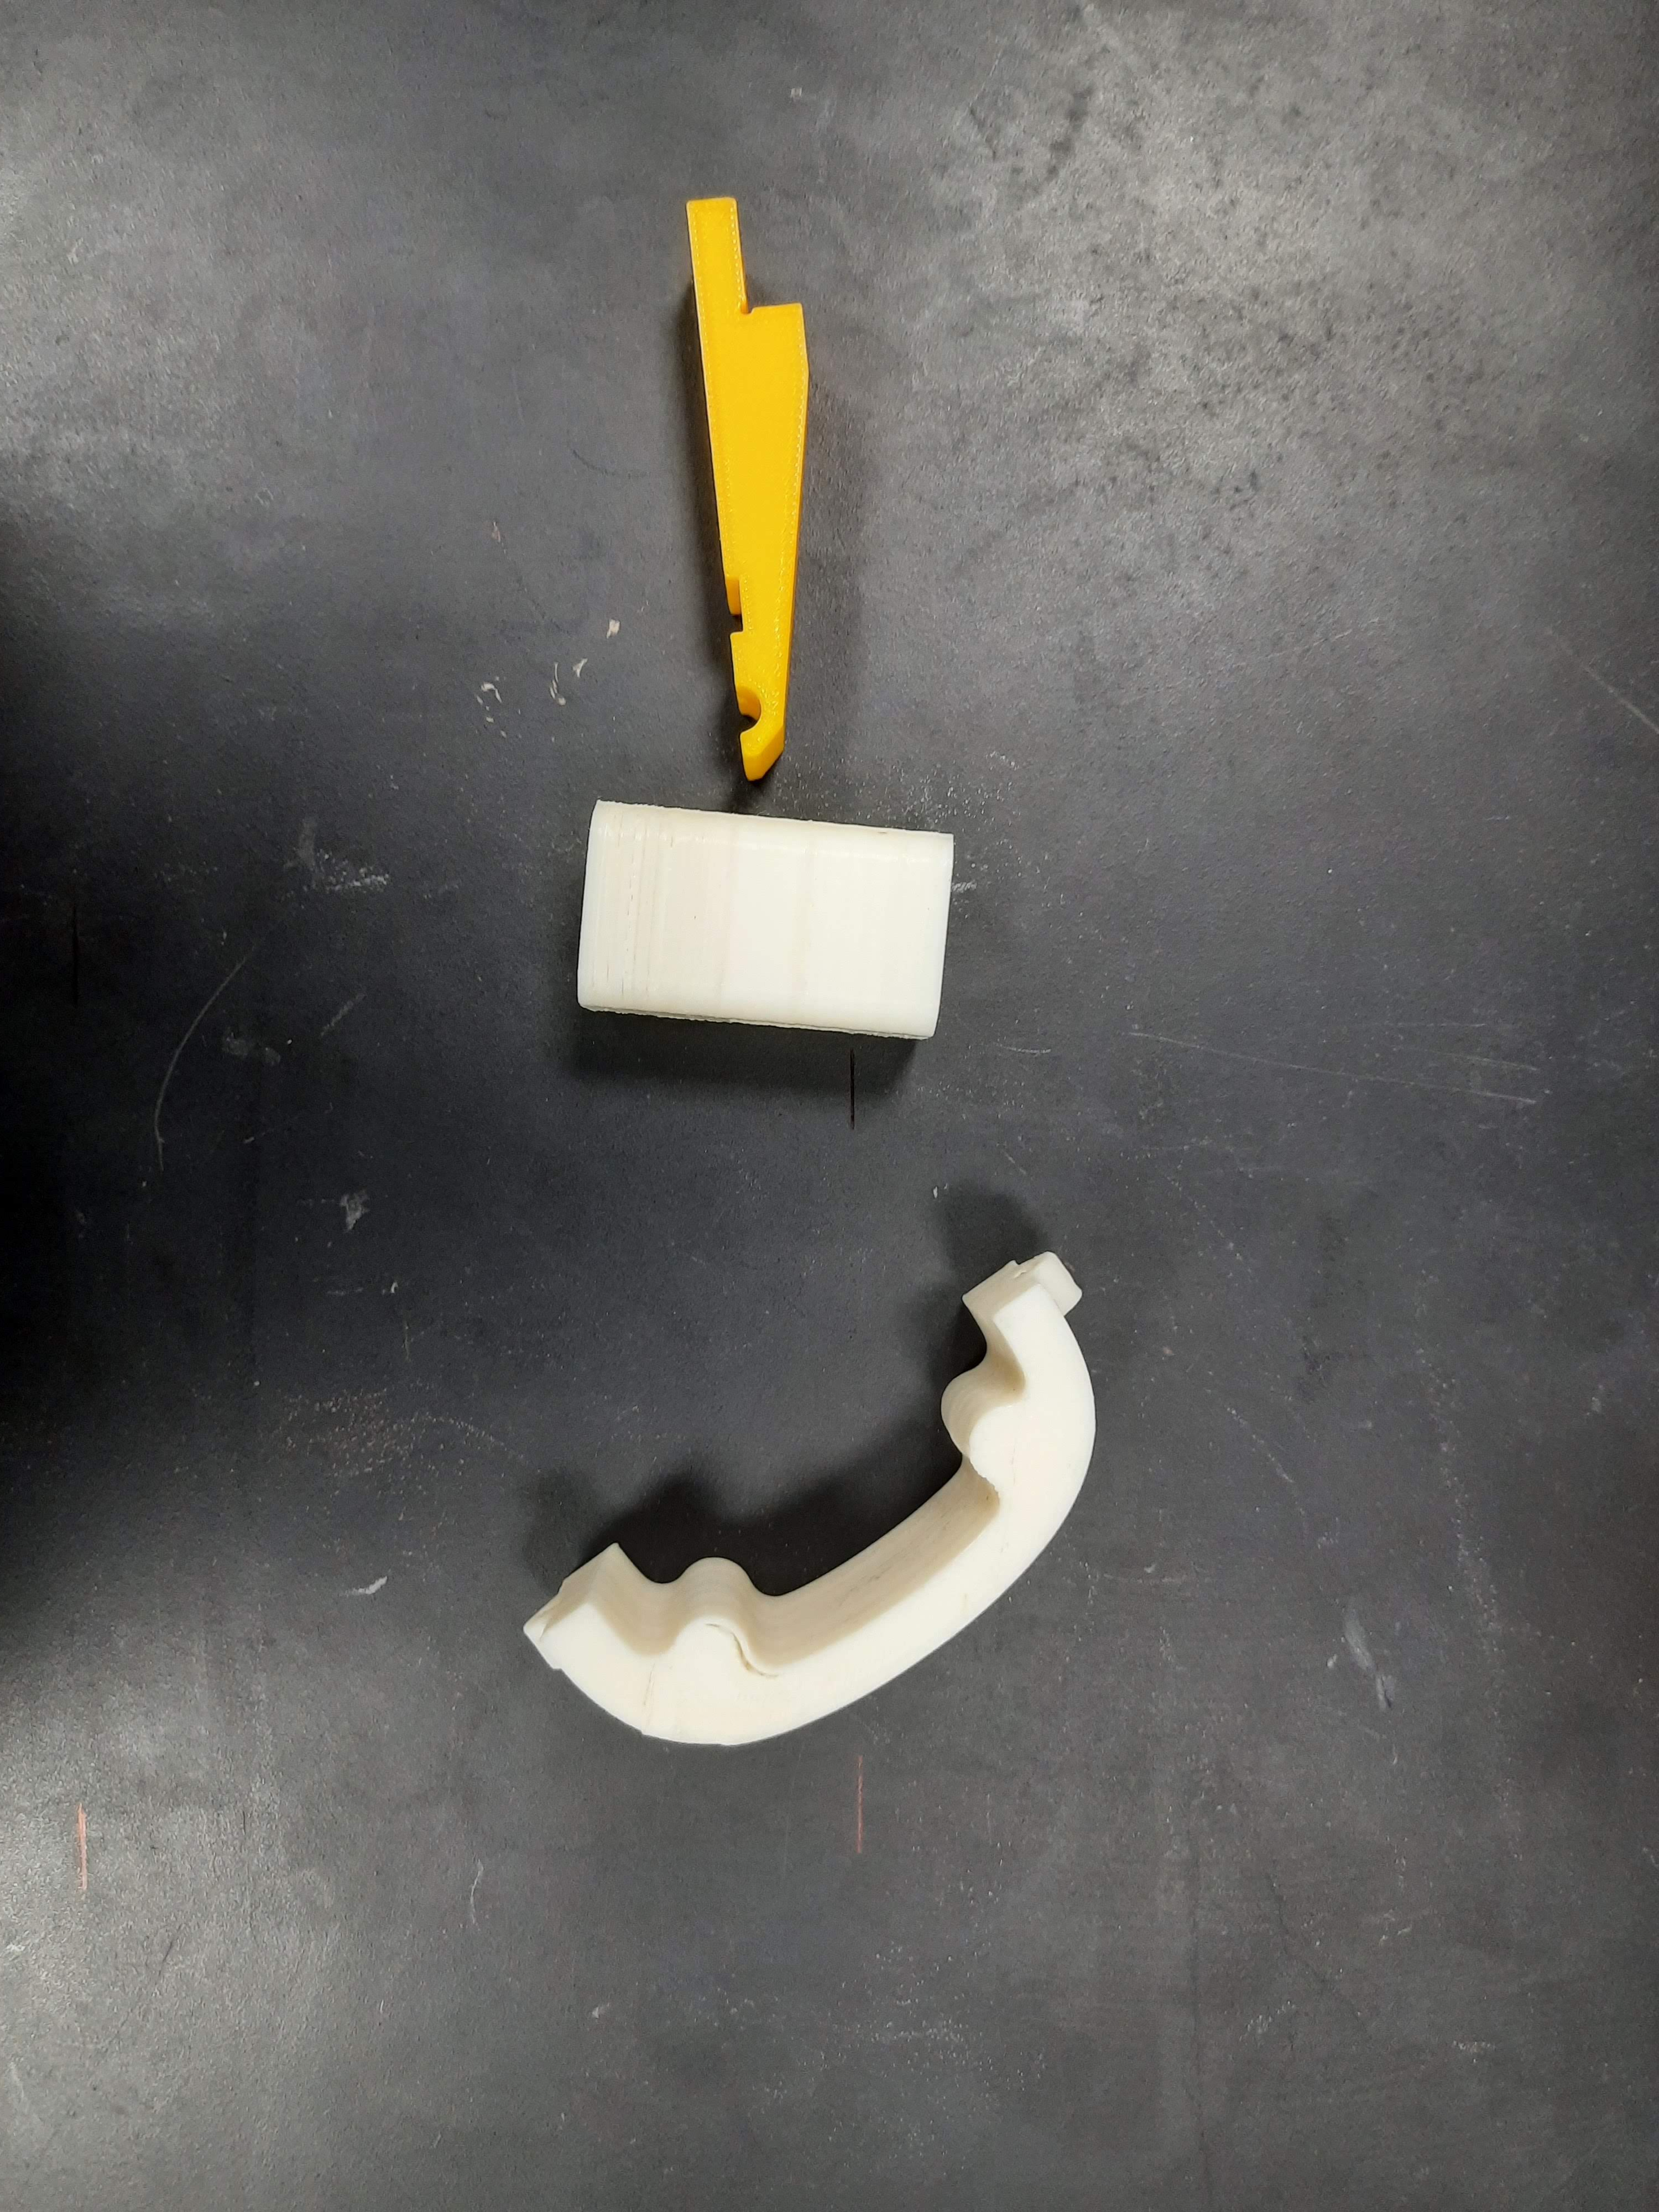ARC: (509, 1230, 1201, 1831)
CUBE: (579, 798, 953, 1036)
YELLOW: (683, 185, 856, 775)
